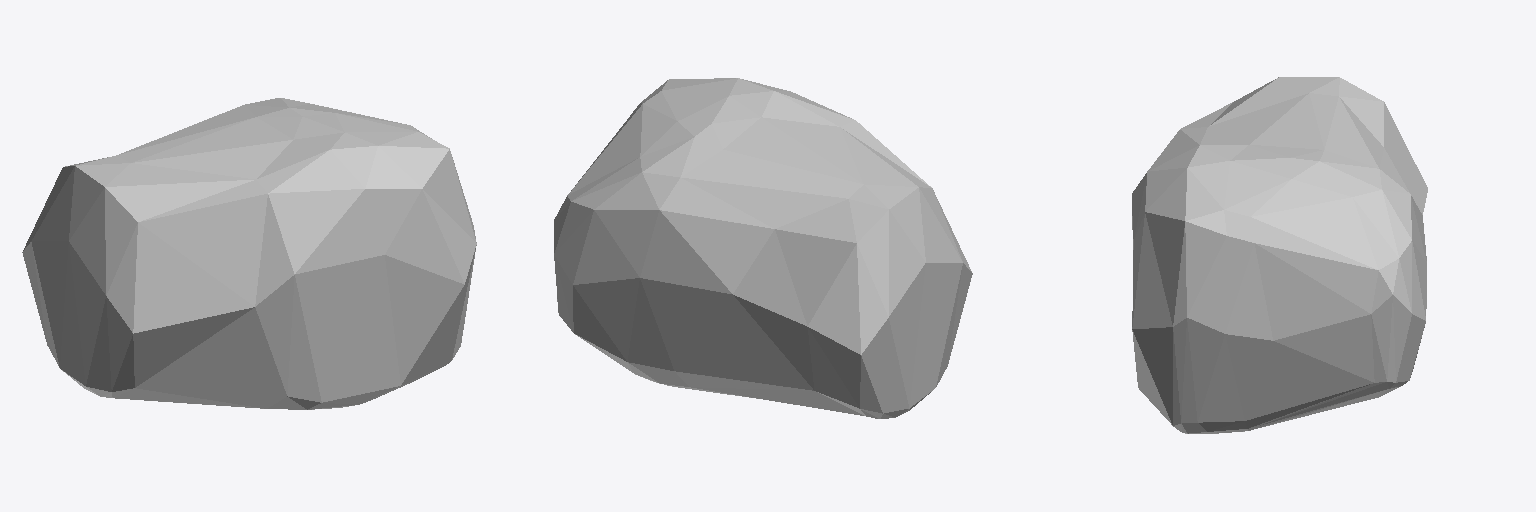
Rendered from front_right_hip_collision.obj.
3 renders of one model, left to right at view 1: azimuth 30°, elevation 25°; view 2: azimuth 150°, elevation 25°; view 3: azimuth 270°, elevation 25°, orthographic.
Parts seen in each view (by area): view 1: front_right_hip_collision; view 2: front_right_hip_collision; view 3: front_right_hip_collision.
Boxes of the visible parts, x1,y1,x2,y2 form: front_right_hip_collision: [22, 98, 476, 409]; front_right_hip_collision: [554, 78, 972, 418]; front_right_hip_collision: [1132, 77, 1427, 433].
Size of the model in its own units: 0.161 by 0.1135 by 0.1198.